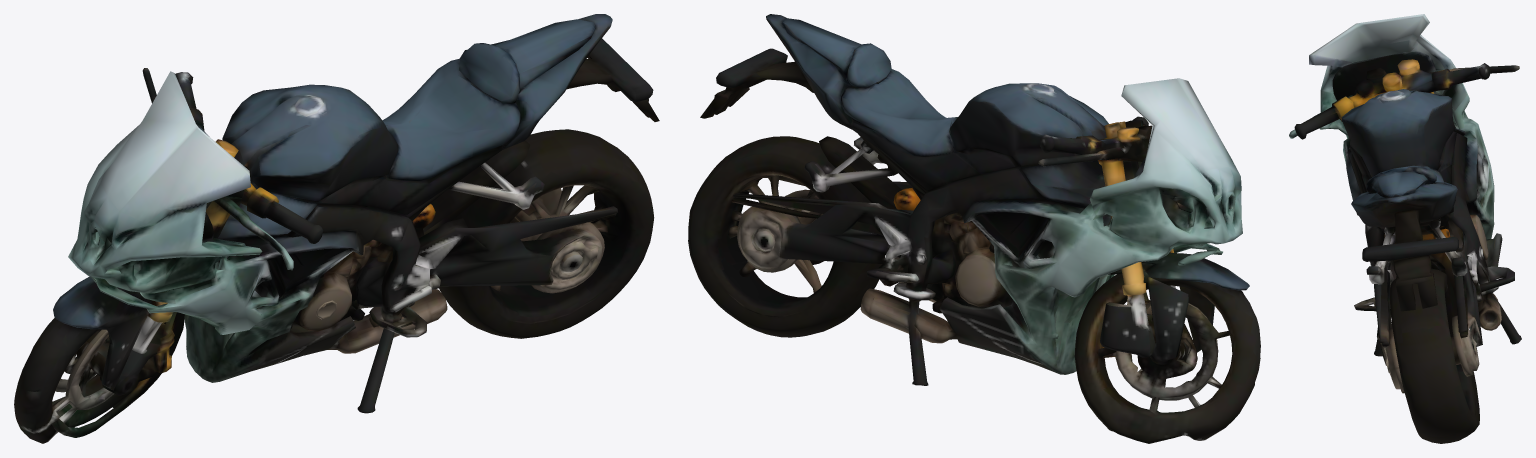
File: Vehicles__crashed_motorbike_93a95d9d_v1.cluster.glb
3 views of the same model, side by side, from view 1: azimuth 30°, elevation 25°; view 2: azimuth 150°, elevation 25°; view 3: azimuth 270°, elevation 25° (orthographic). The views are drawn at different scales.
Parts seen in each view (by area): view 1: material; view 2: material; view 3: material.
Boxes of the visible parts, x1,y1,x2,y2 form: material: (14, 14, 659, 443); material: (688, 14, 1260, 443); material: (1289, 14, 1521, 443).
Size of the model in its own units: 1.9 by 1.05 by 0.7928.
Materials: 1 (1 with a texture image).
